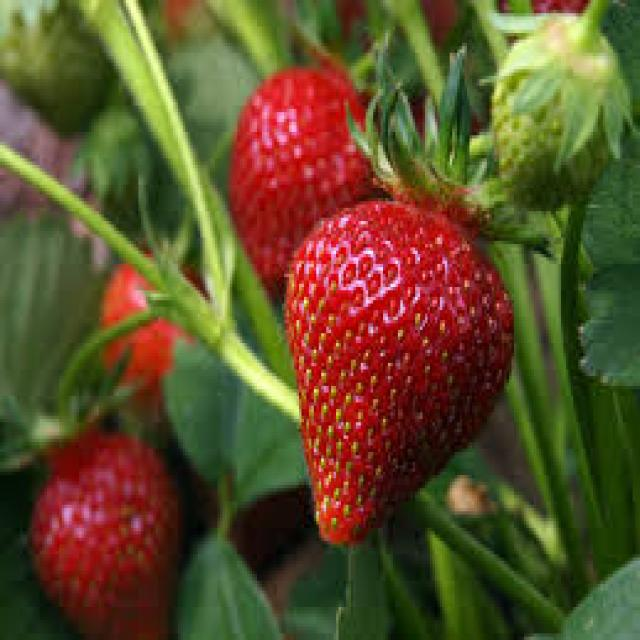Strawberries: (296, 217, 501, 526), (33, 462, 188, 640), (243, 71, 349, 273)
